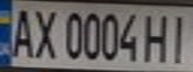0: (60, 7, 84, 61), (81, 8, 103, 61), (100, 9, 121, 62)
4: (118, 9, 142, 63)
A: (6, 3, 36, 60)
H: (139, 10, 175, 64)
I: (163, 10, 193, 64)
X: (30, 6, 60, 61)
